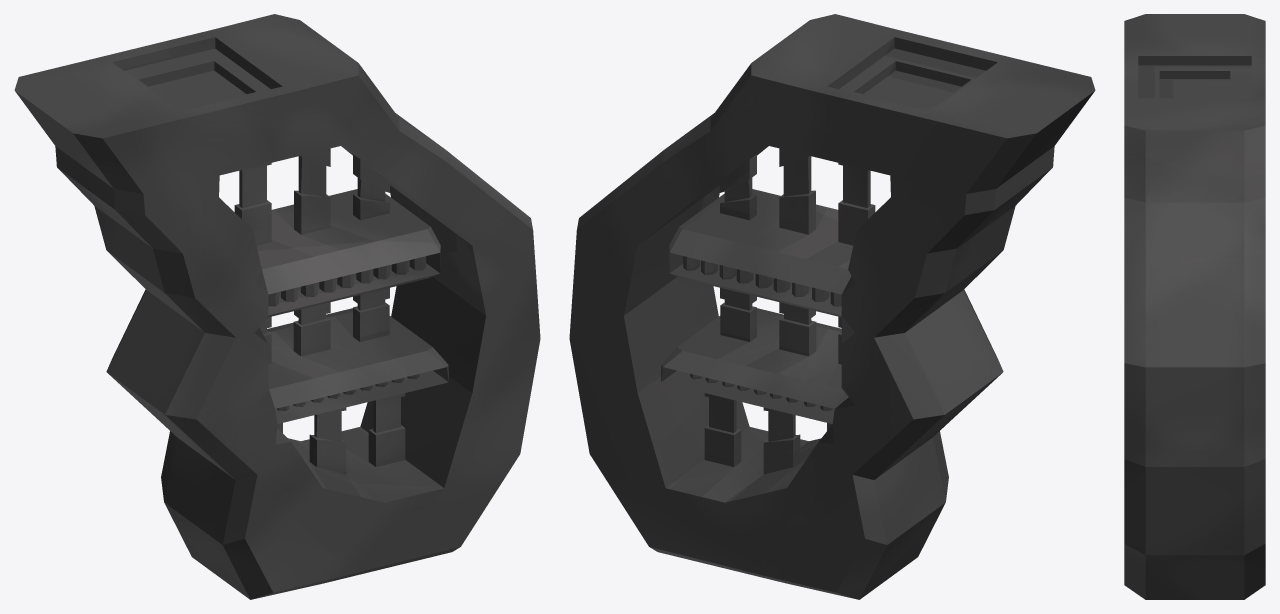
Rendered from SkeletalHandle.fbx.
3 views of the same model, side by side, from view 1: azimuth 30°, elevation 25°; view 2: azimuth 150°, elevation 25°; view 3: azimuth 270°, elevation 25° (orthographic). The views are drawn at different scales.
Parts seen in each view (by area): view 1: SkeletalHandle; view 2: SkeletalHandle; view 3: SkeletalHandle.
Part boxes in pixels (left/top/right/bottom): SkeletalHandle: left=14, top=14, right=540, bottom=599; SkeletalHandle: left=569, top=14, right=1095, bottom=599; SkeletalHandle: left=1124, top=14, right=1265, bottom=599.
Bounding box in the file's own units: 23.93 × 25.2 × 7.49.
Materials: 1 (1 with a texture image).
